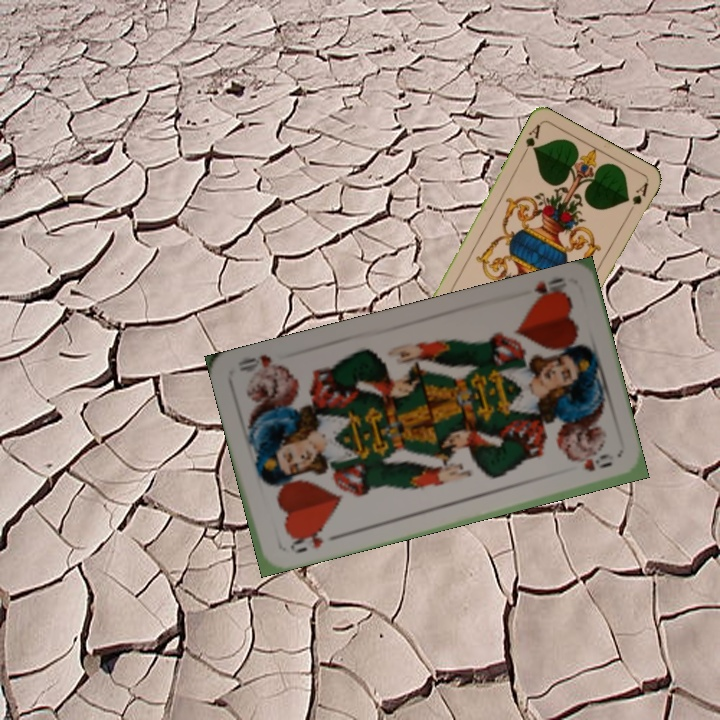GA: (519, 120, 543, 158)
HO: (525, 273, 570, 307), (286, 525, 326, 556)
